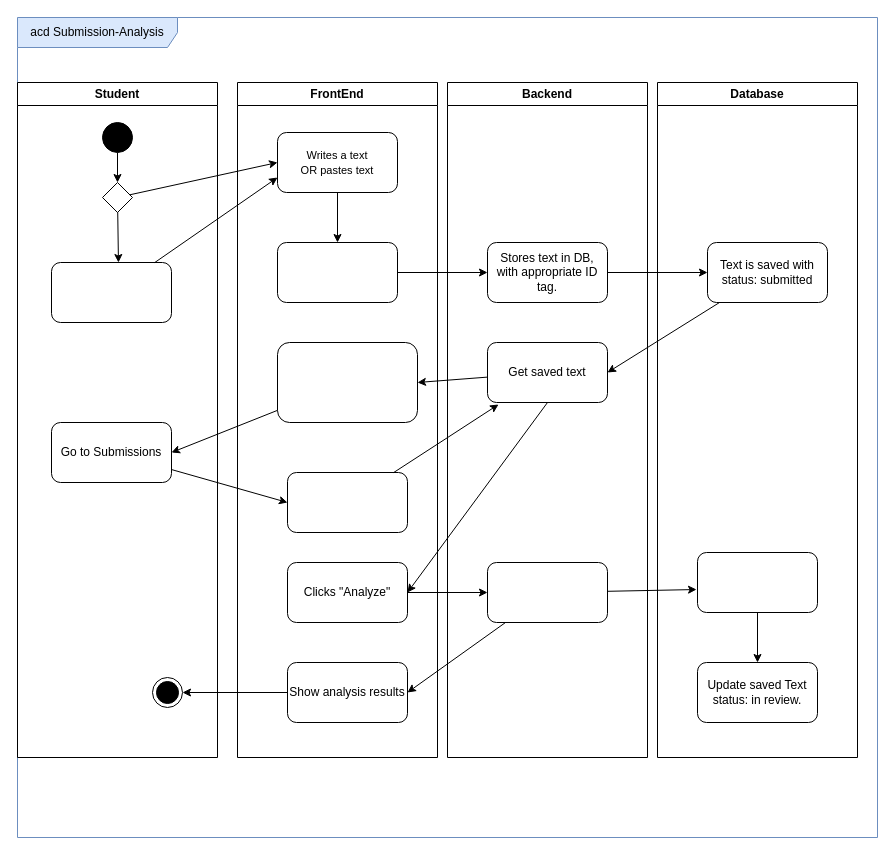
Image size: 895x855. Some labels were removed from this diagram. The shapes that lost their labels are listed below. From the top down, each one's centre as x and y in pixels, then its label:
At point (111, 292): "Writes a text".
At point (337, 272): "On pressing Submit".
At point (347, 382): "Textbox in Text is now Read-only, with tag: submitted, not analysed.".
At point (347, 502): "Clicks on Submitted Text".
At point (547, 592): "Runs Analysis".
At point (757, 582): "Stores analysis result with Text ID".
